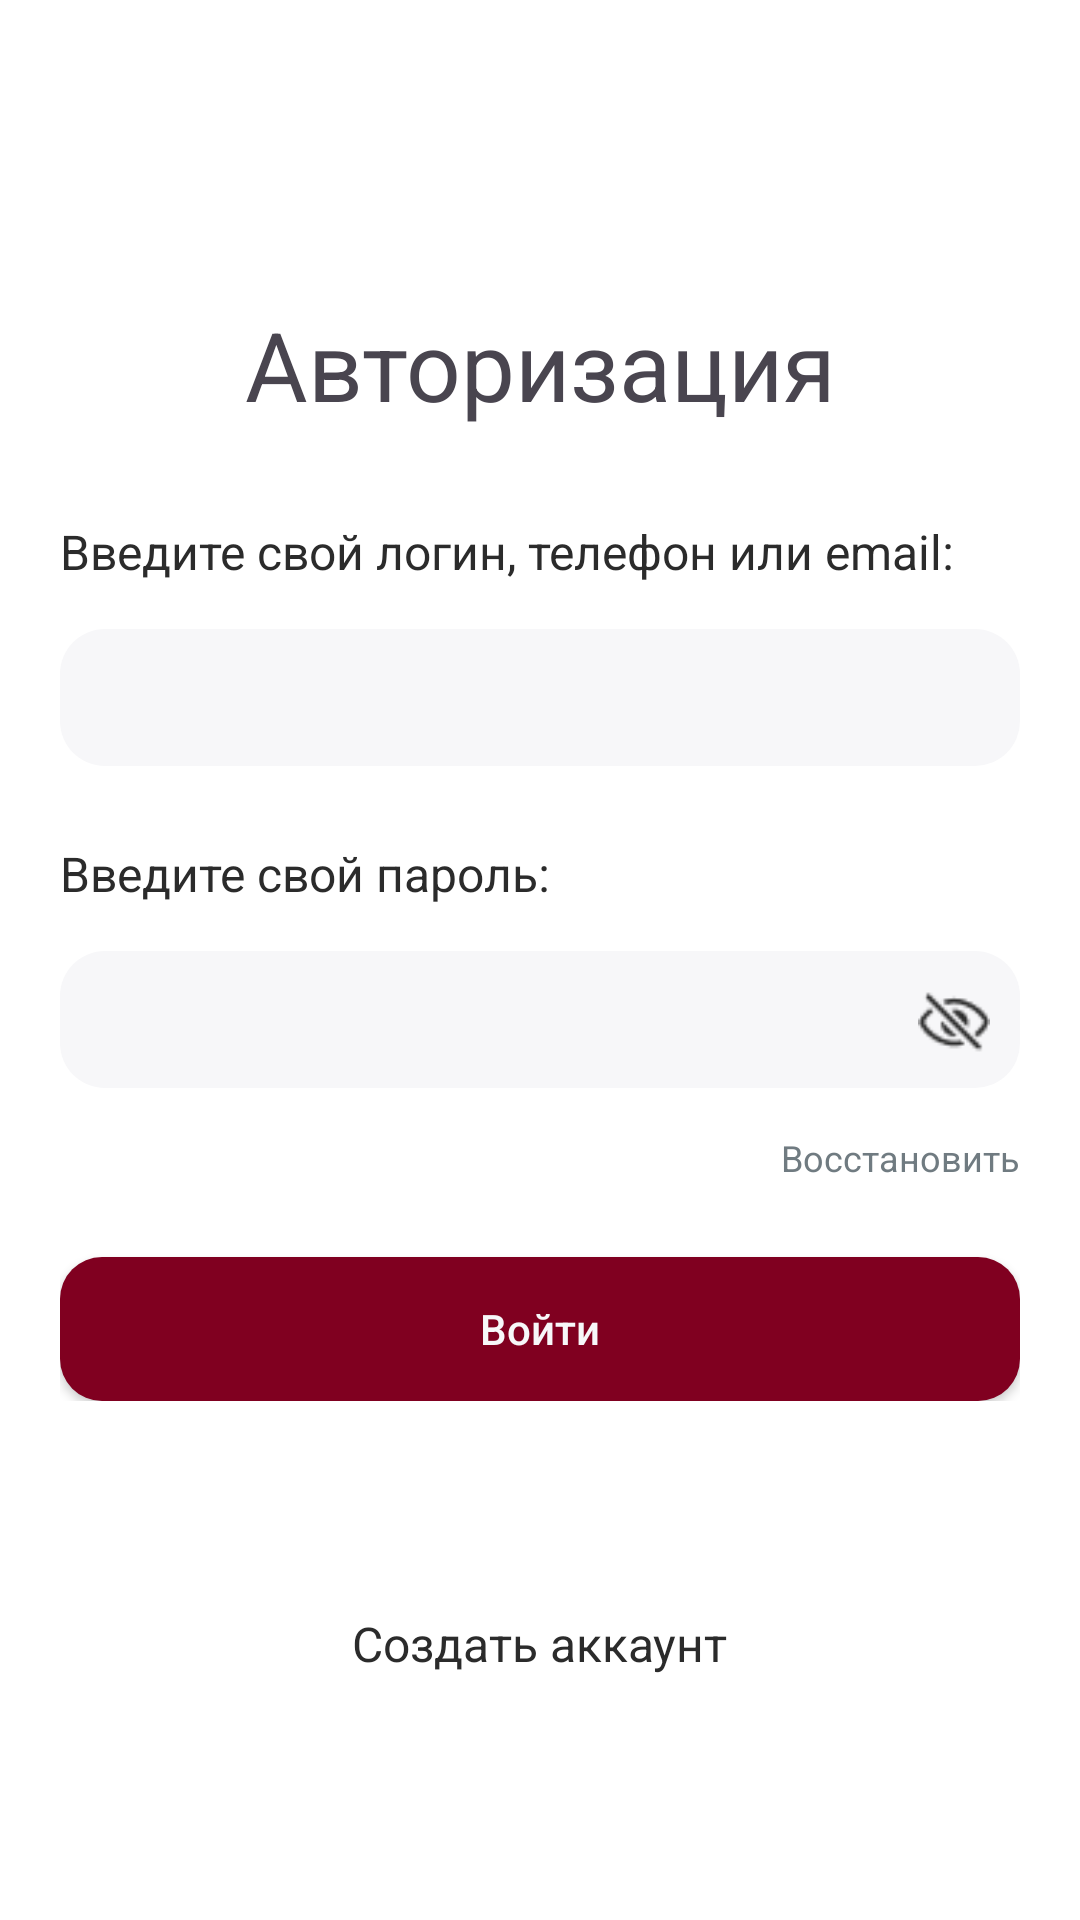

Named icons in this screenshot (1080px x 1920px) and their centers, [x,y]:
eye: [954,1021]
